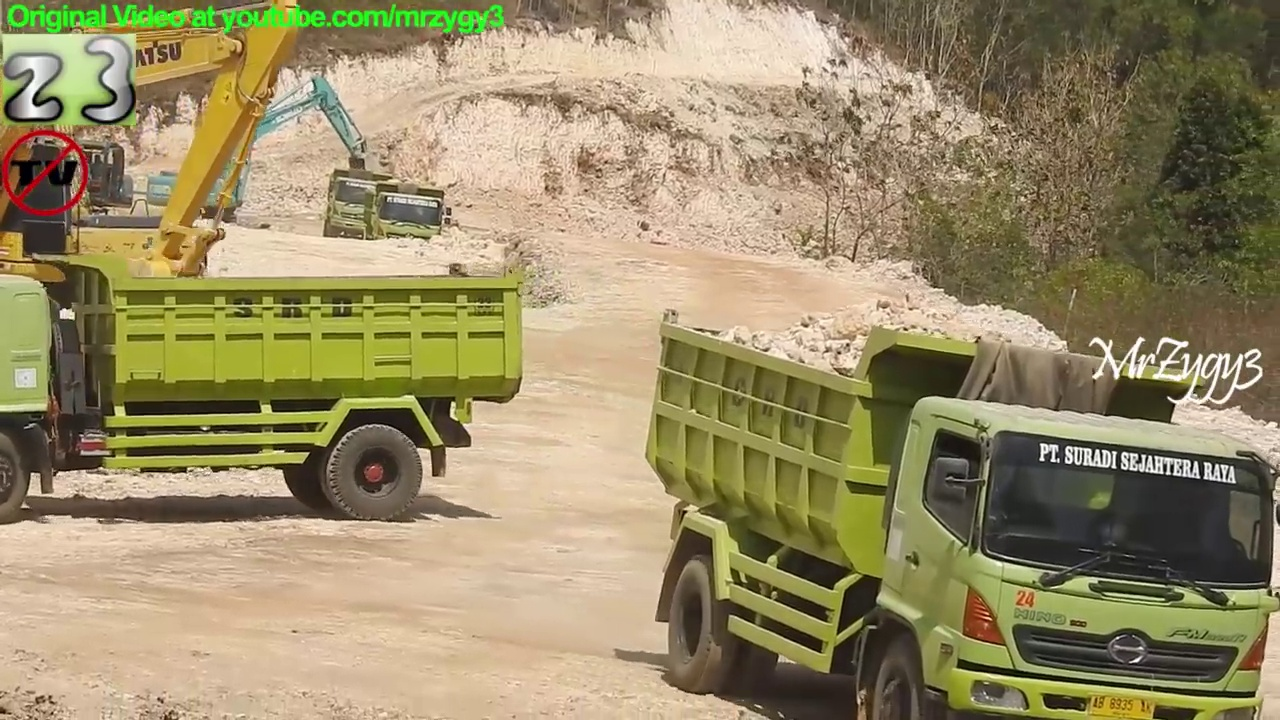excavator: (1, 1, 309, 412), (1, 1, 223, 348), (144, 72, 391, 236), (1, 61, 143, 251)
truck: (640, 302, 1280, 720), (1, 250, 527, 524), (322, 161, 400, 247), (371, 176, 453, 255)
